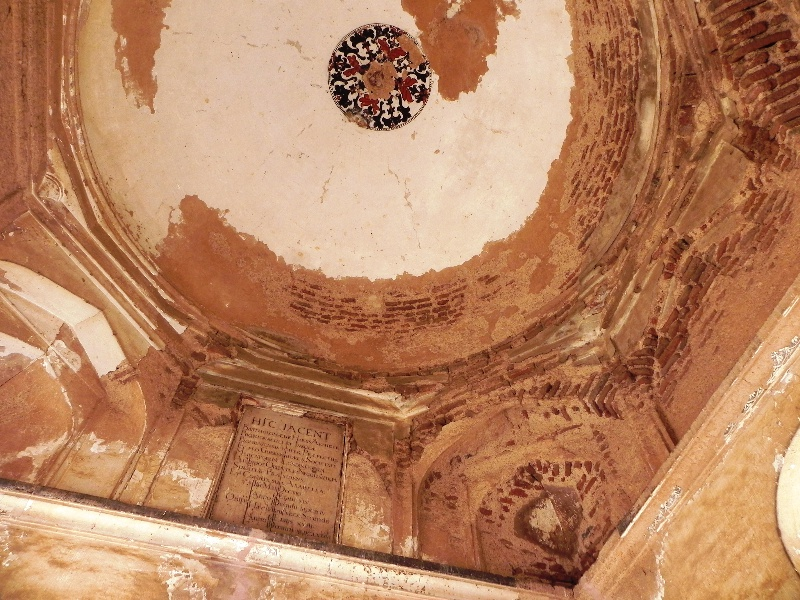Exposed Bricks: (398, 338, 699, 415), (555, 1, 651, 239), (683, 1, 800, 179), (286, 273, 478, 338)
